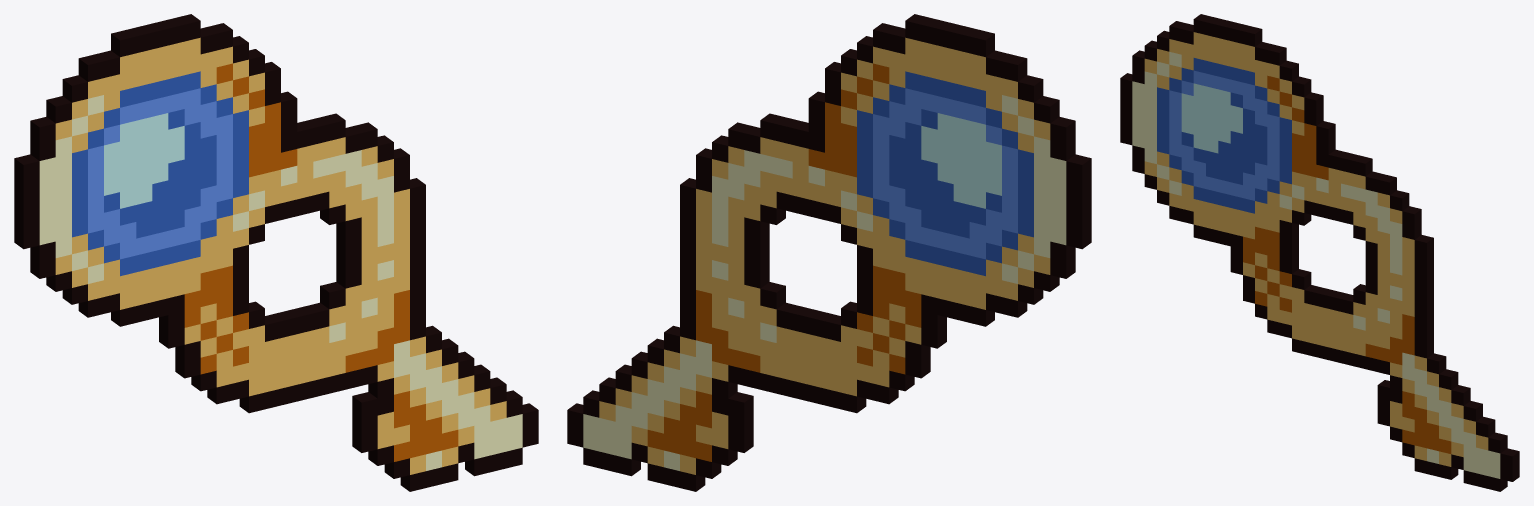
Rendered from I_Key05.fbx.
3 views of the same model, side by side, from view 1: azimuth 30°, elevation 25°; view 2: azimuth 150°, elevation 25°; view 3: azimuth 330°, elevation 25° (orthographic). The views are drawn at different scales.
Visible parts, largest first — view 1: Default; view 2: Default; view 3: Default.
Boxes of the visible parts, x1,y1,x2,y2 form: Default: [14, 14, 538, 491]; Default: [567, 14, 1091, 491]; Default: [1120, 14, 1519, 491].
Bounding box in the file's own units: 32 × 31 × 1.
1 material, 1 textured.
